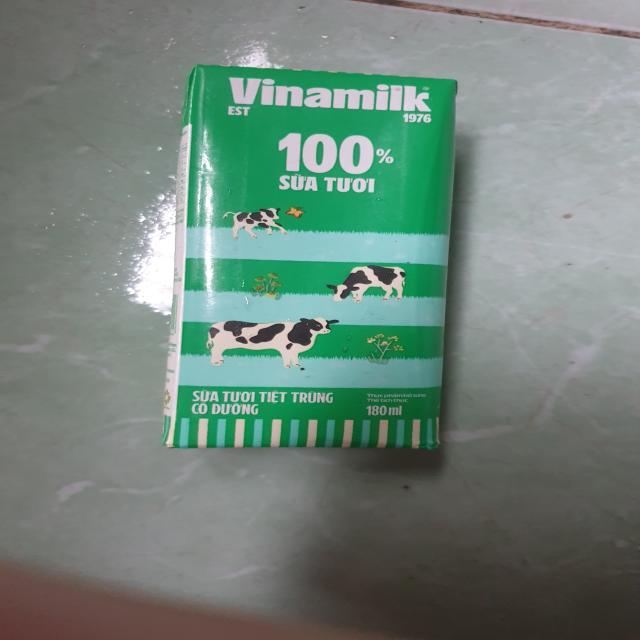Vina: (159, 63, 467, 461)
